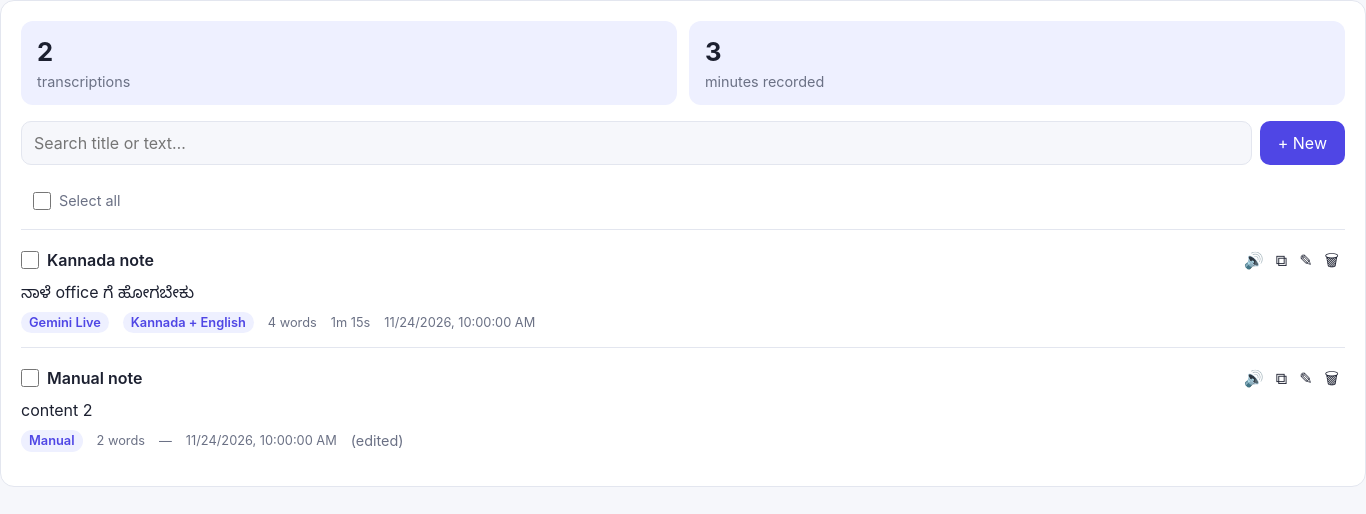
HistoryDashboard › multi-select › deletes the selected rows in one request
The image size is (1366, 514).
Expected: the button "Kannada note" is shown, left=47, top=248, right=1230, bottom=272
Click the checkbox named "Select Manual note" at (30, 378), box left=21, top=369, right=39, bottom=387
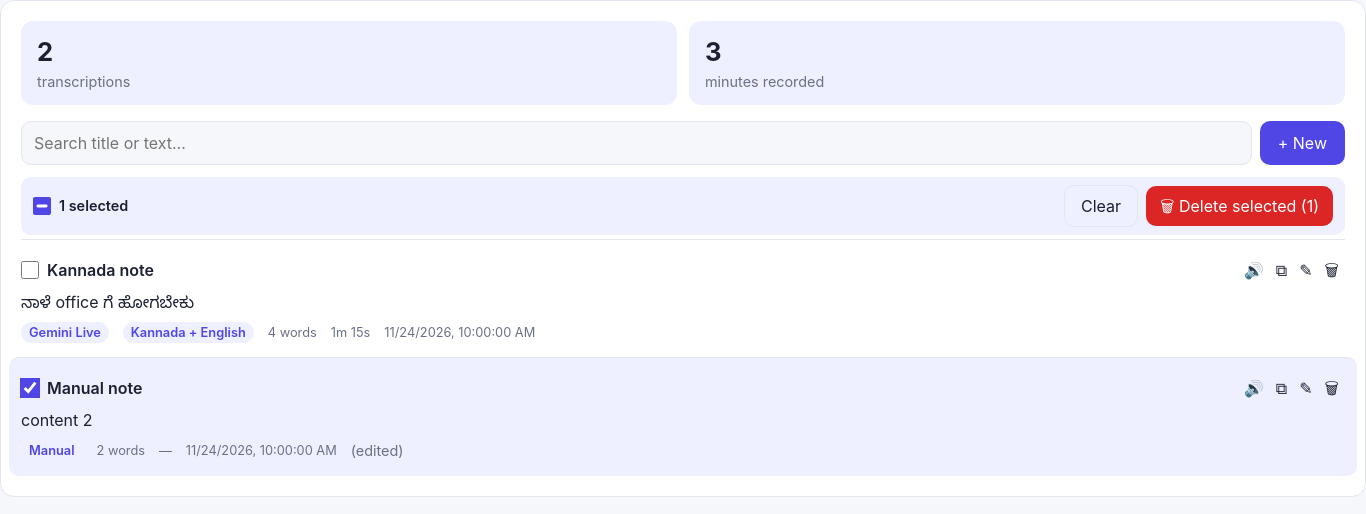
Click the checkbox named "Select Kannada note" at (30, 270), box left=21, top=261, right=39, bottom=279
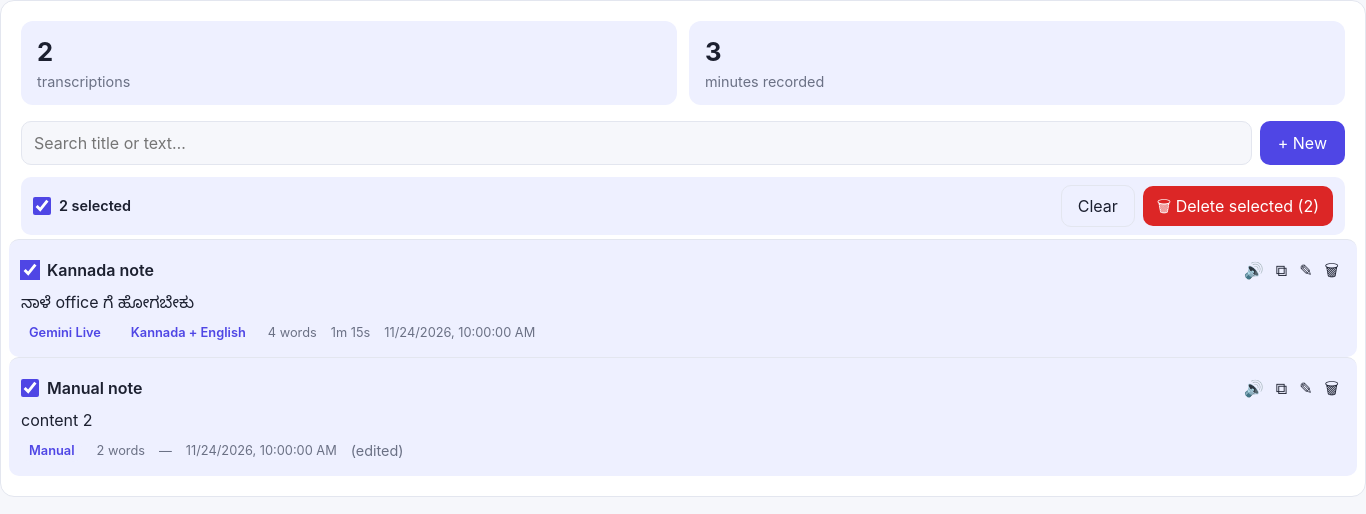
Click the button "🗑 Delete selected (2)" at (1238, 206), box left=1143, top=186, right=1333, bottom=226
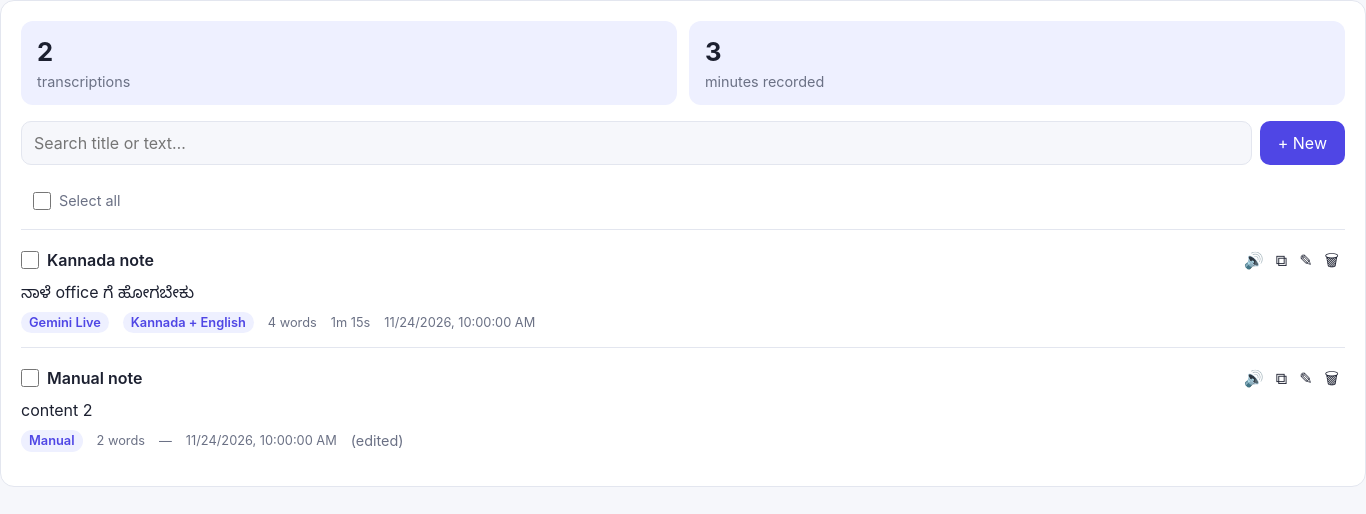
Expected: the text "Select all" is shown, left=59, top=190, right=120, bottom=212
